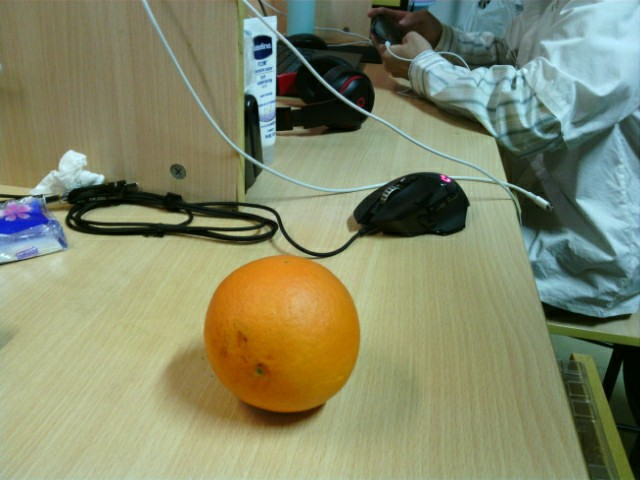normal_orange: (205, 255, 361, 410)
